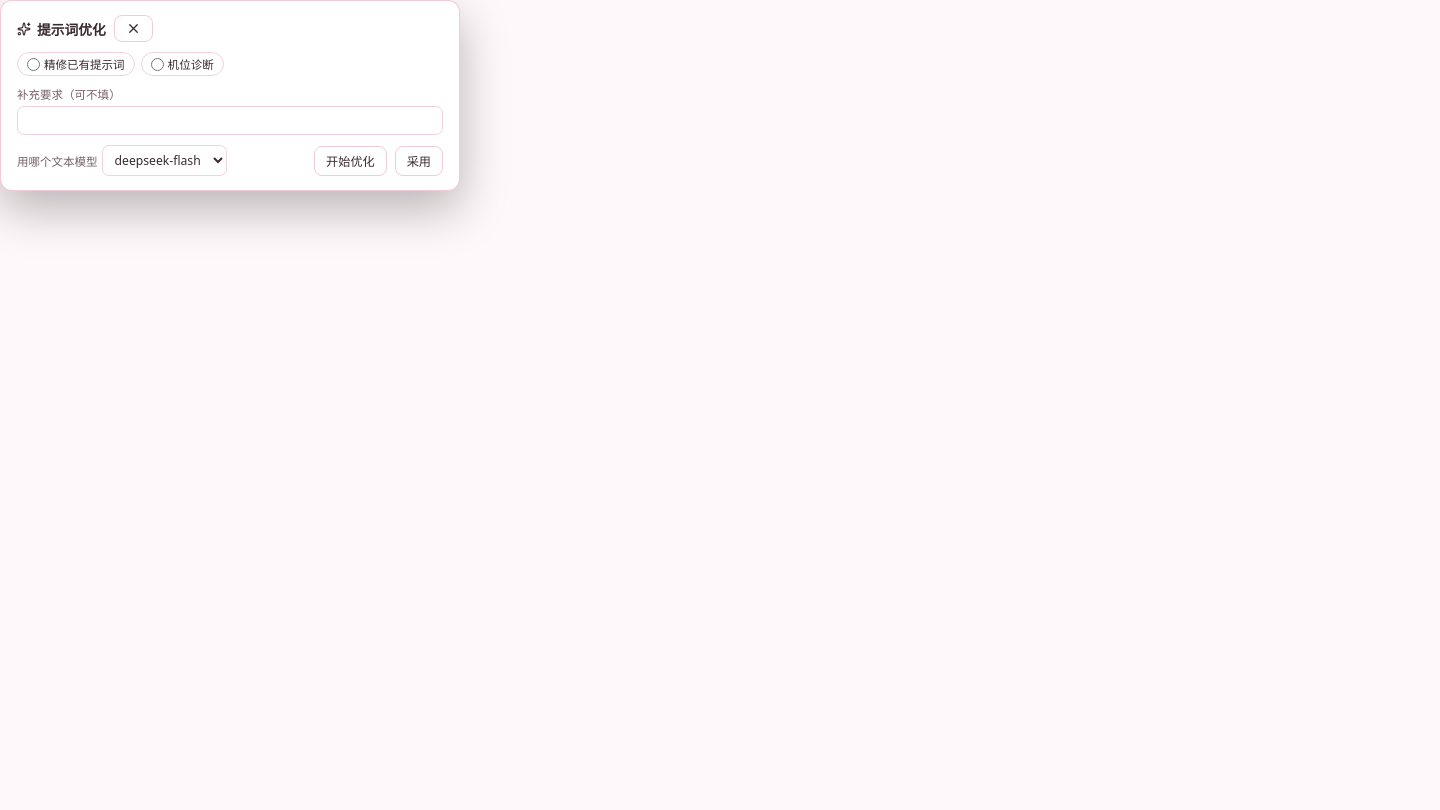
Test: camera diagnosis in the prompt optimizer › asks for the rewrite in camera mode and adopts only what the person accepts
The width and height of the screenshot is (1440, 810).
Later steps or results of the test are not shown.
Click the radio button labelled "机位诊断": (157, 64) 151,58 -> 164,70
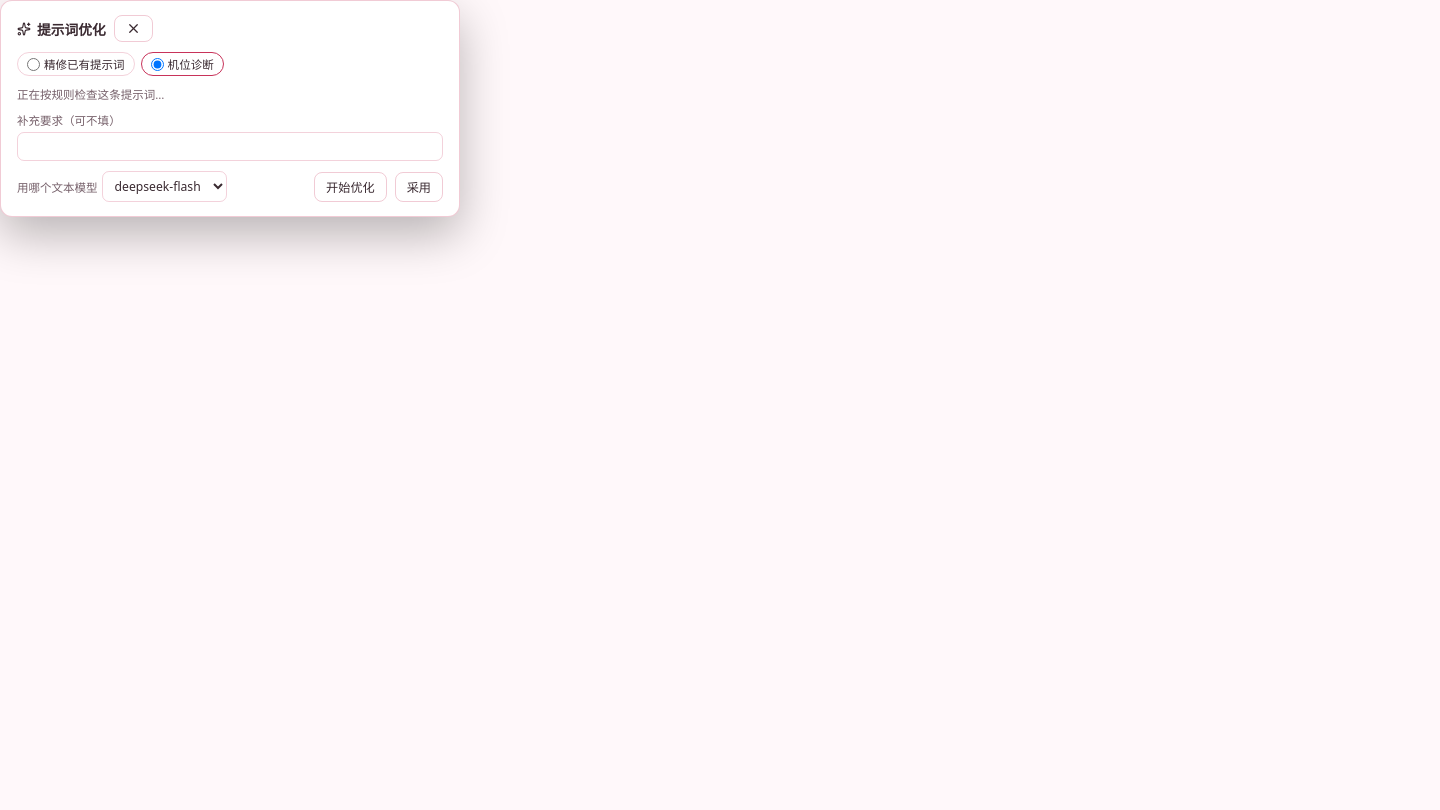
Click the button "开始优化": (350, 186) 314,172 -> 387,202
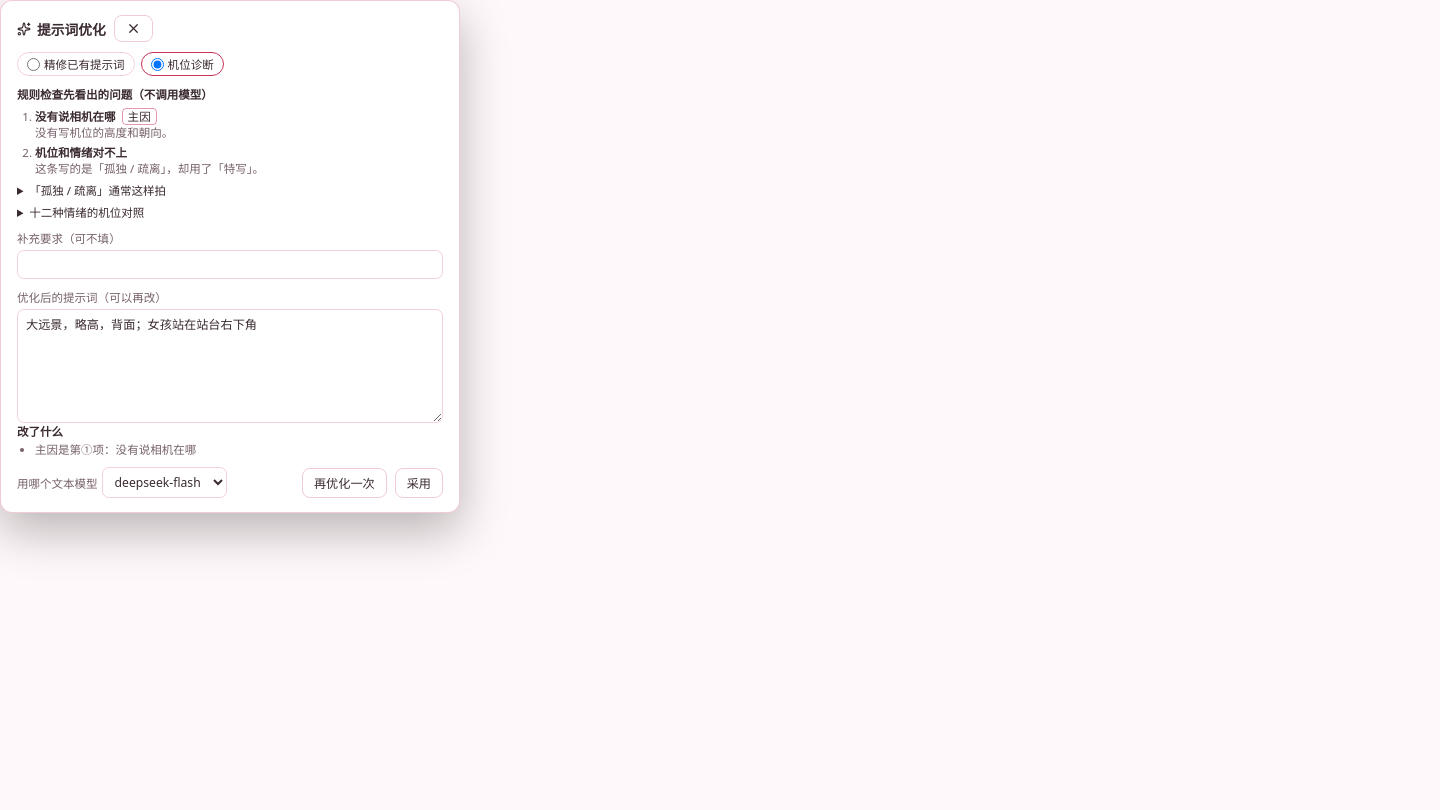
Result: the text box labelled "优化后的提示词（可以再改）" holds "大远景，略高，背面；女孩站在站台右下角" at 17,309 -> 443,423
